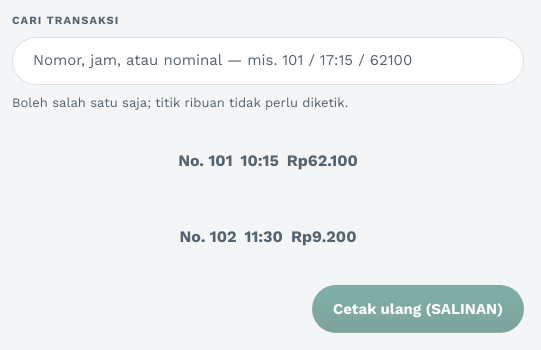
DaftarTransaksi — pencarian › menyaring sesuai kata kunci
Step 1. Type "102" into the field labelled "Cari transaksi" → [268, 61], box [12,37,524,85]
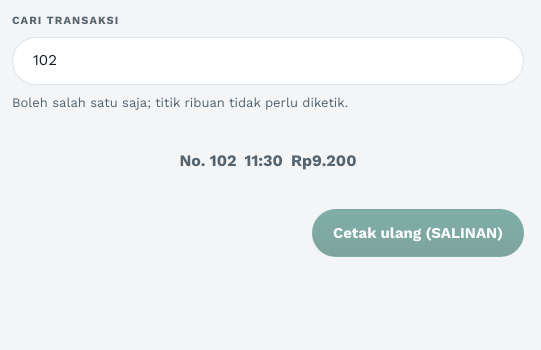
Expected: the list item with test id "transaksi-102" is shown, [12,125,524,197]
Expected: the list item with test id "transaksi-101" is gone
